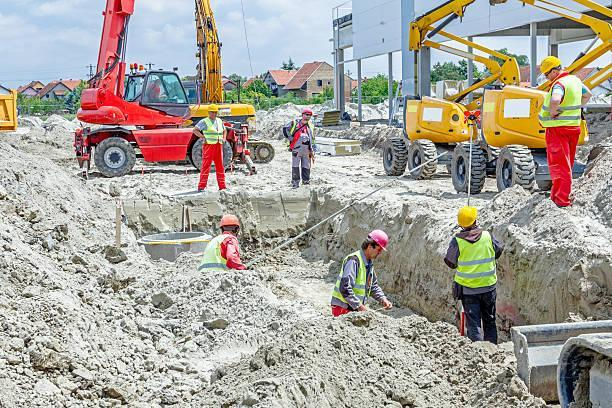helmet: (457, 203, 479, 229), (538, 51, 561, 73), (370, 227, 392, 248), (222, 213, 239, 225)
person: (534, 53, 592, 210), (443, 205, 505, 351), (332, 228, 392, 318), (195, 210, 252, 271), (283, 108, 320, 192), (195, 102, 229, 190)
vest: (455, 235, 502, 296), (540, 76, 588, 131), (333, 251, 369, 311), (200, 230, 242, 272), (203, 121, 224, 147)
